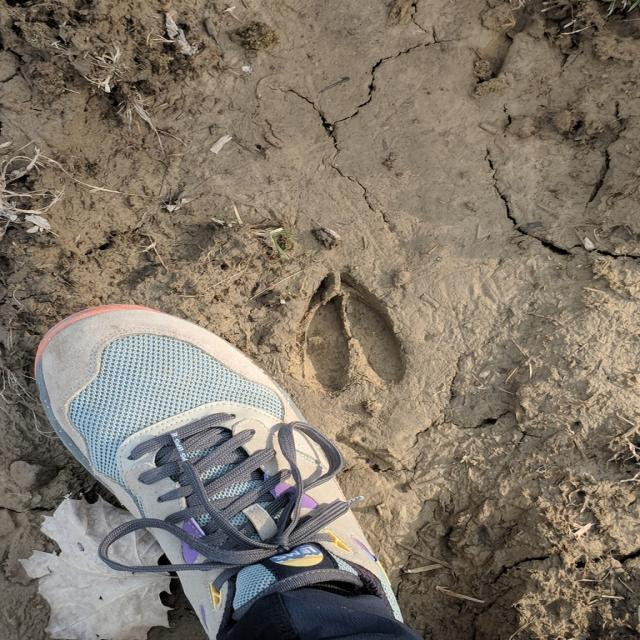deer: (293, 272, 407, 388)
